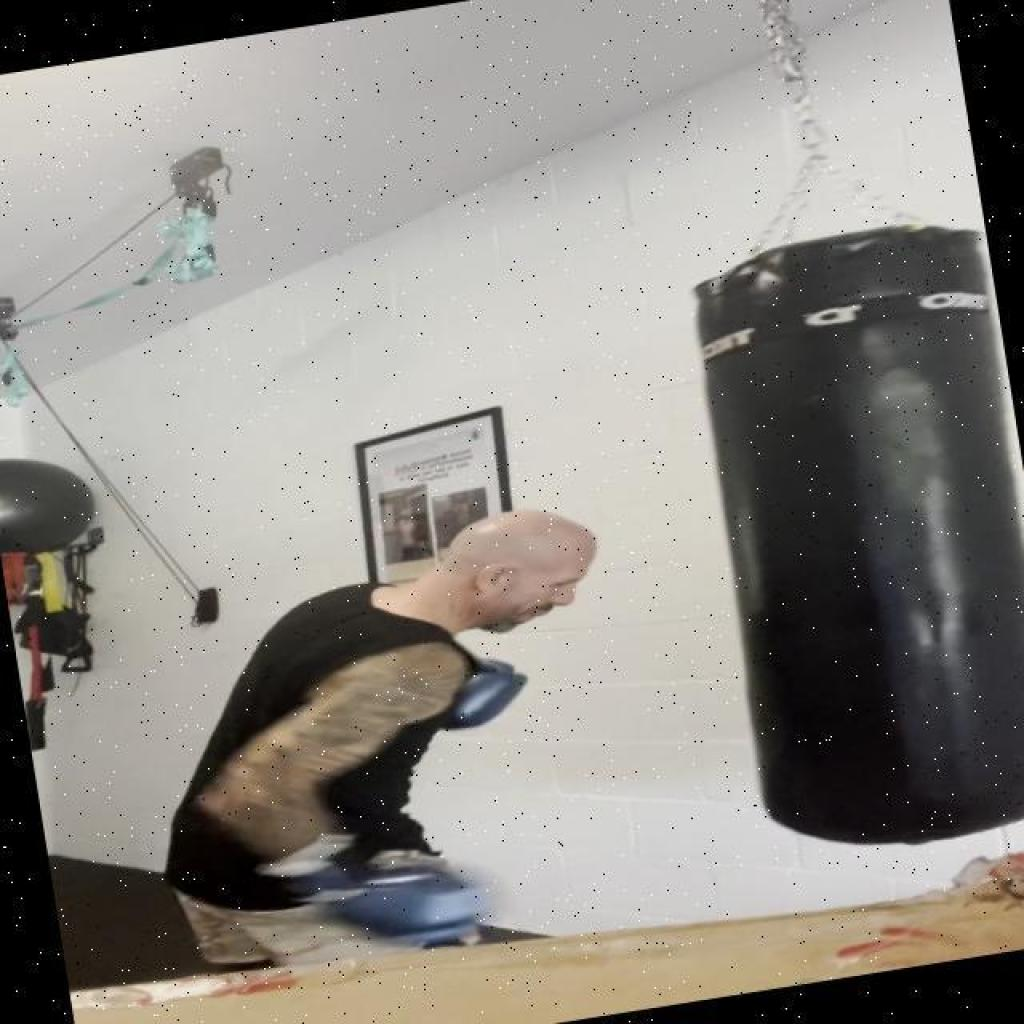bag: (637, 205, 1024, 872)
uppercut: (130, 451, 680, 971)
